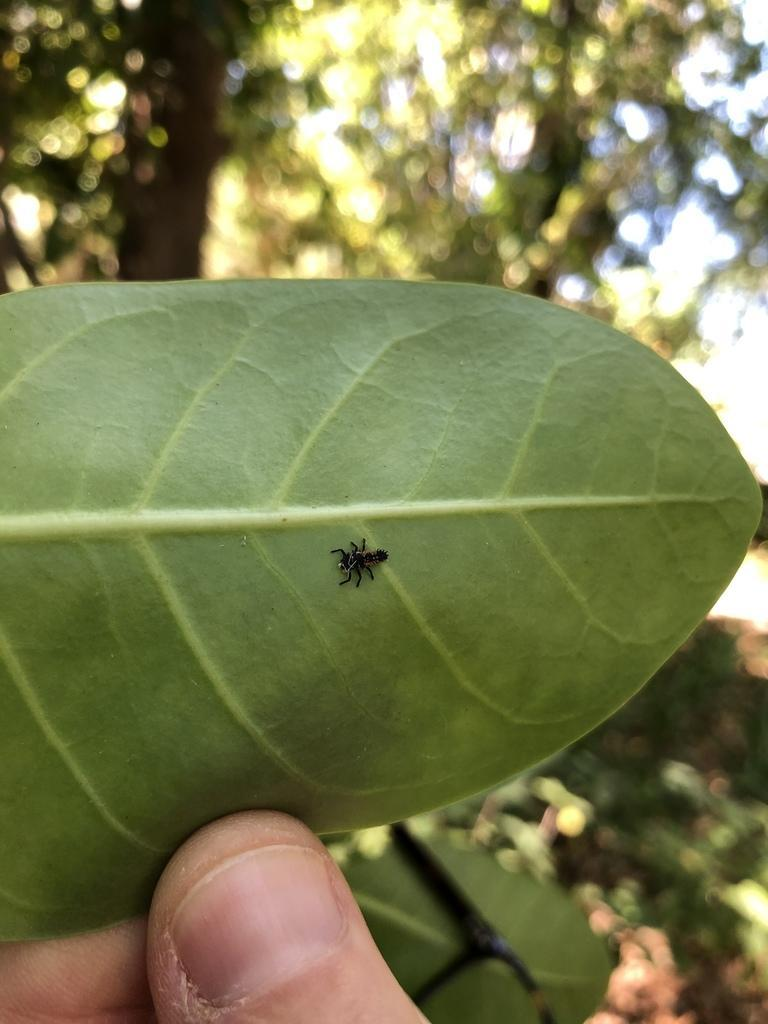ladybug: (329, 536, 395, 590)
